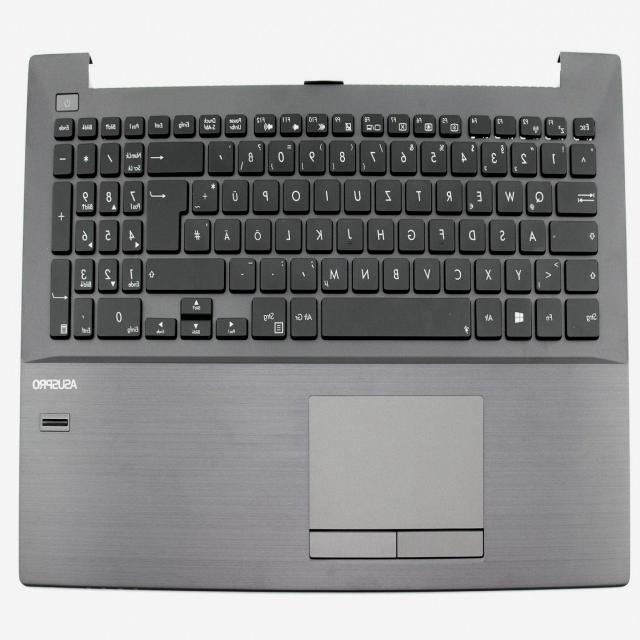0: (269, 138, 297, 172)
1: (542, 140, 568, 174)
2: (512, 140, 539, 174)
3: (482, 140, 510, 174)
4: (452, 139, 479, 173)
5: (421, 139, 449, 173)
6: (391, 138, 419, 172)
7: (360, 138, 388, 172)
8: (330, 138, 358, 173)
9: (300, 138, 328, 172)
a: (521, 217, 548, 252)
accent: (210, 139, 236, 173)
ae: (215, 216, 243, 252)
alt-left: (476, 295, 504, 338)
altgr-right: (291, 294, 319, 338)
b: (383, 255, 412, 290)
c: (445, 255, 473, 291)
caret: (572, 142, 598, 175)
comma: (292, 255, 320, 290)
d: (460, 216, 488, 252)
del: (149, 139, 206, 173)
e: (467, 177, 494, 212)
enter: (147, 177, 189, 252)
f: (430, 216, 457, 251)
g: (399, 215, 427, 251)
h: (368, 215, 396, 251)
hash: (185, 216, 213, 252)
i: (315, 177, 343, 211)
j: (338, 215, 366, 251)
k: (307, 215, 335, 251)
keyboard: (42, 98, 608, 358)
l: (276, 215, 304, 251)
less: (536, 256, 564, 291)
m: (322, 255, 351, 291)
minus: (231, 256, 259, 290)
n: (352, 254, 381, 290)
o: (284, 176, 312, 212)
oe: (246, 215, 274, 251)
p: (254, 177, 280, 211)
plus: (194, 176, 221, 212)
point: (261, 255, 289, 289)
q: (527, 178, 555, 214)
r: (437, 177, 464, 211)
s: (490, 217, 518, 252)
shift-left: (567, 257, 601, 292)
shift-lock: (550, 217, 600, 252)
shift-right: (147, 255, 227, 290)
space: (322, 294, 472, 338)
ss: (240, 138, 266, 172)
strg-left: (567, 294, 603, 338)
strg-right: (252, 294, 289, 338)
t: (407, 176, 434, 211)
tab: (557, 179, 599, 215)
u: (345, 176, 373, 212)
ue: (224, 177, 251, 212)
v: (415, 255, 443, 291)
w: (497, 177, 525, 213)
x: (476, 255, 503, 291)
y: (506, 256, 533, 291)
z: (376, 177, 404, 212)
